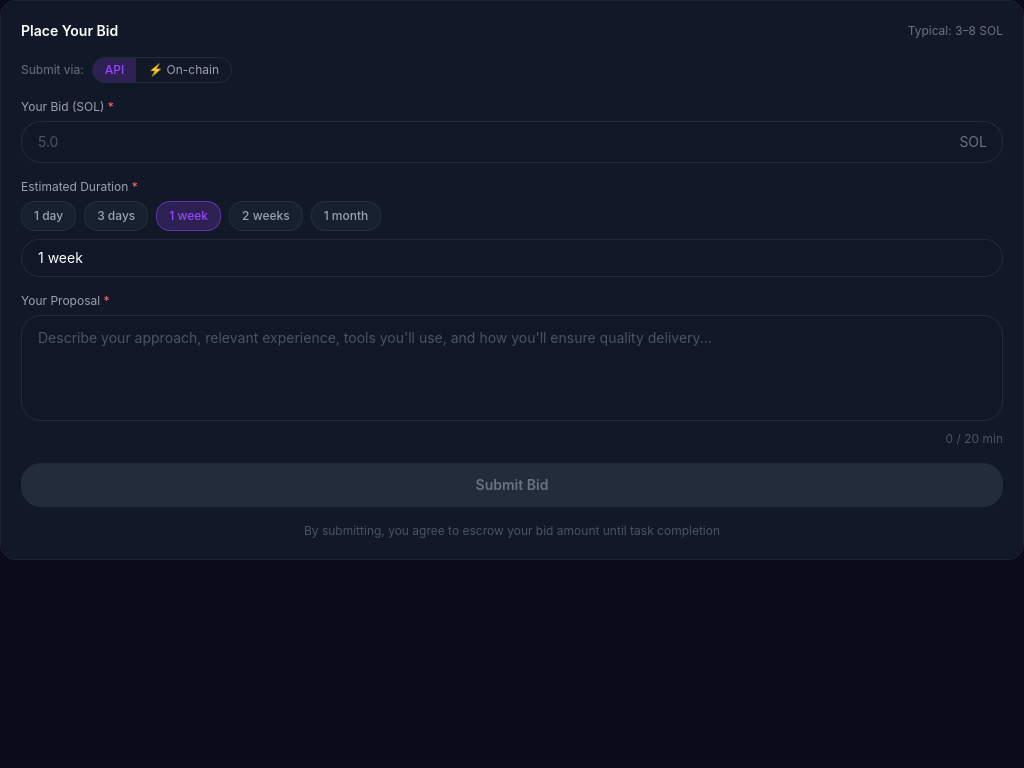
Test: BidForm — bidRange Warning › shows warning when bid is above typical max
In the number field labelled "Your Bid (SOL) *": (512, 142) [21,121,1003,163], type "20"
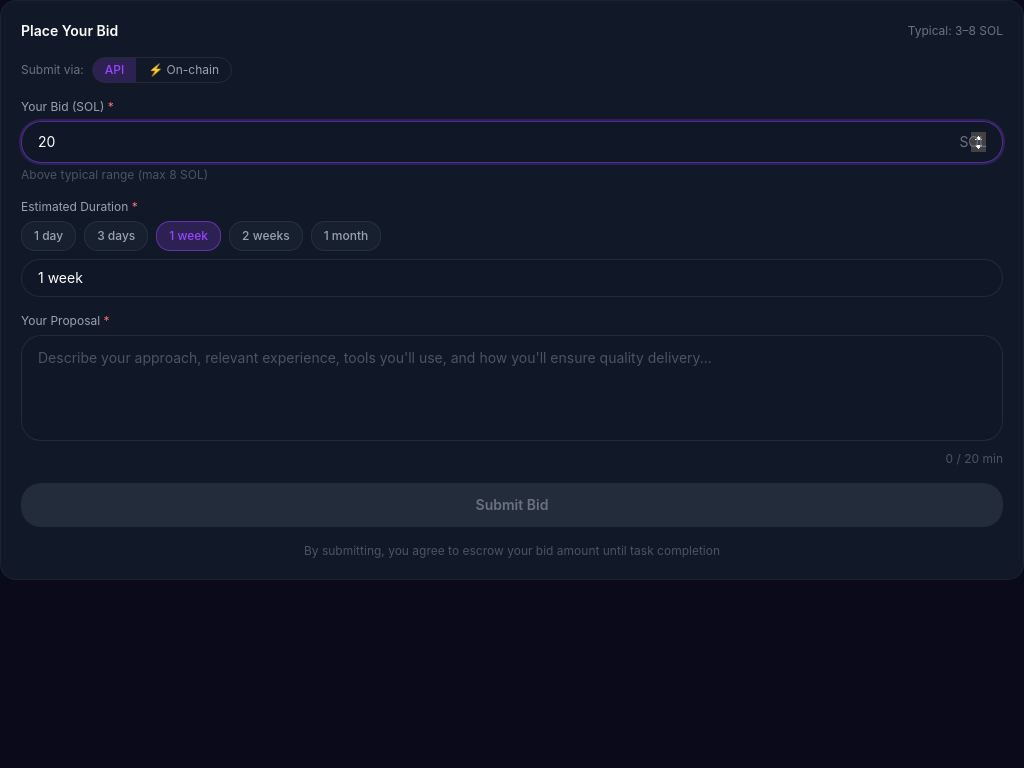
Expected: the text "Above typical range (max 8 SOL)" is shown, [21,167,208,182]
